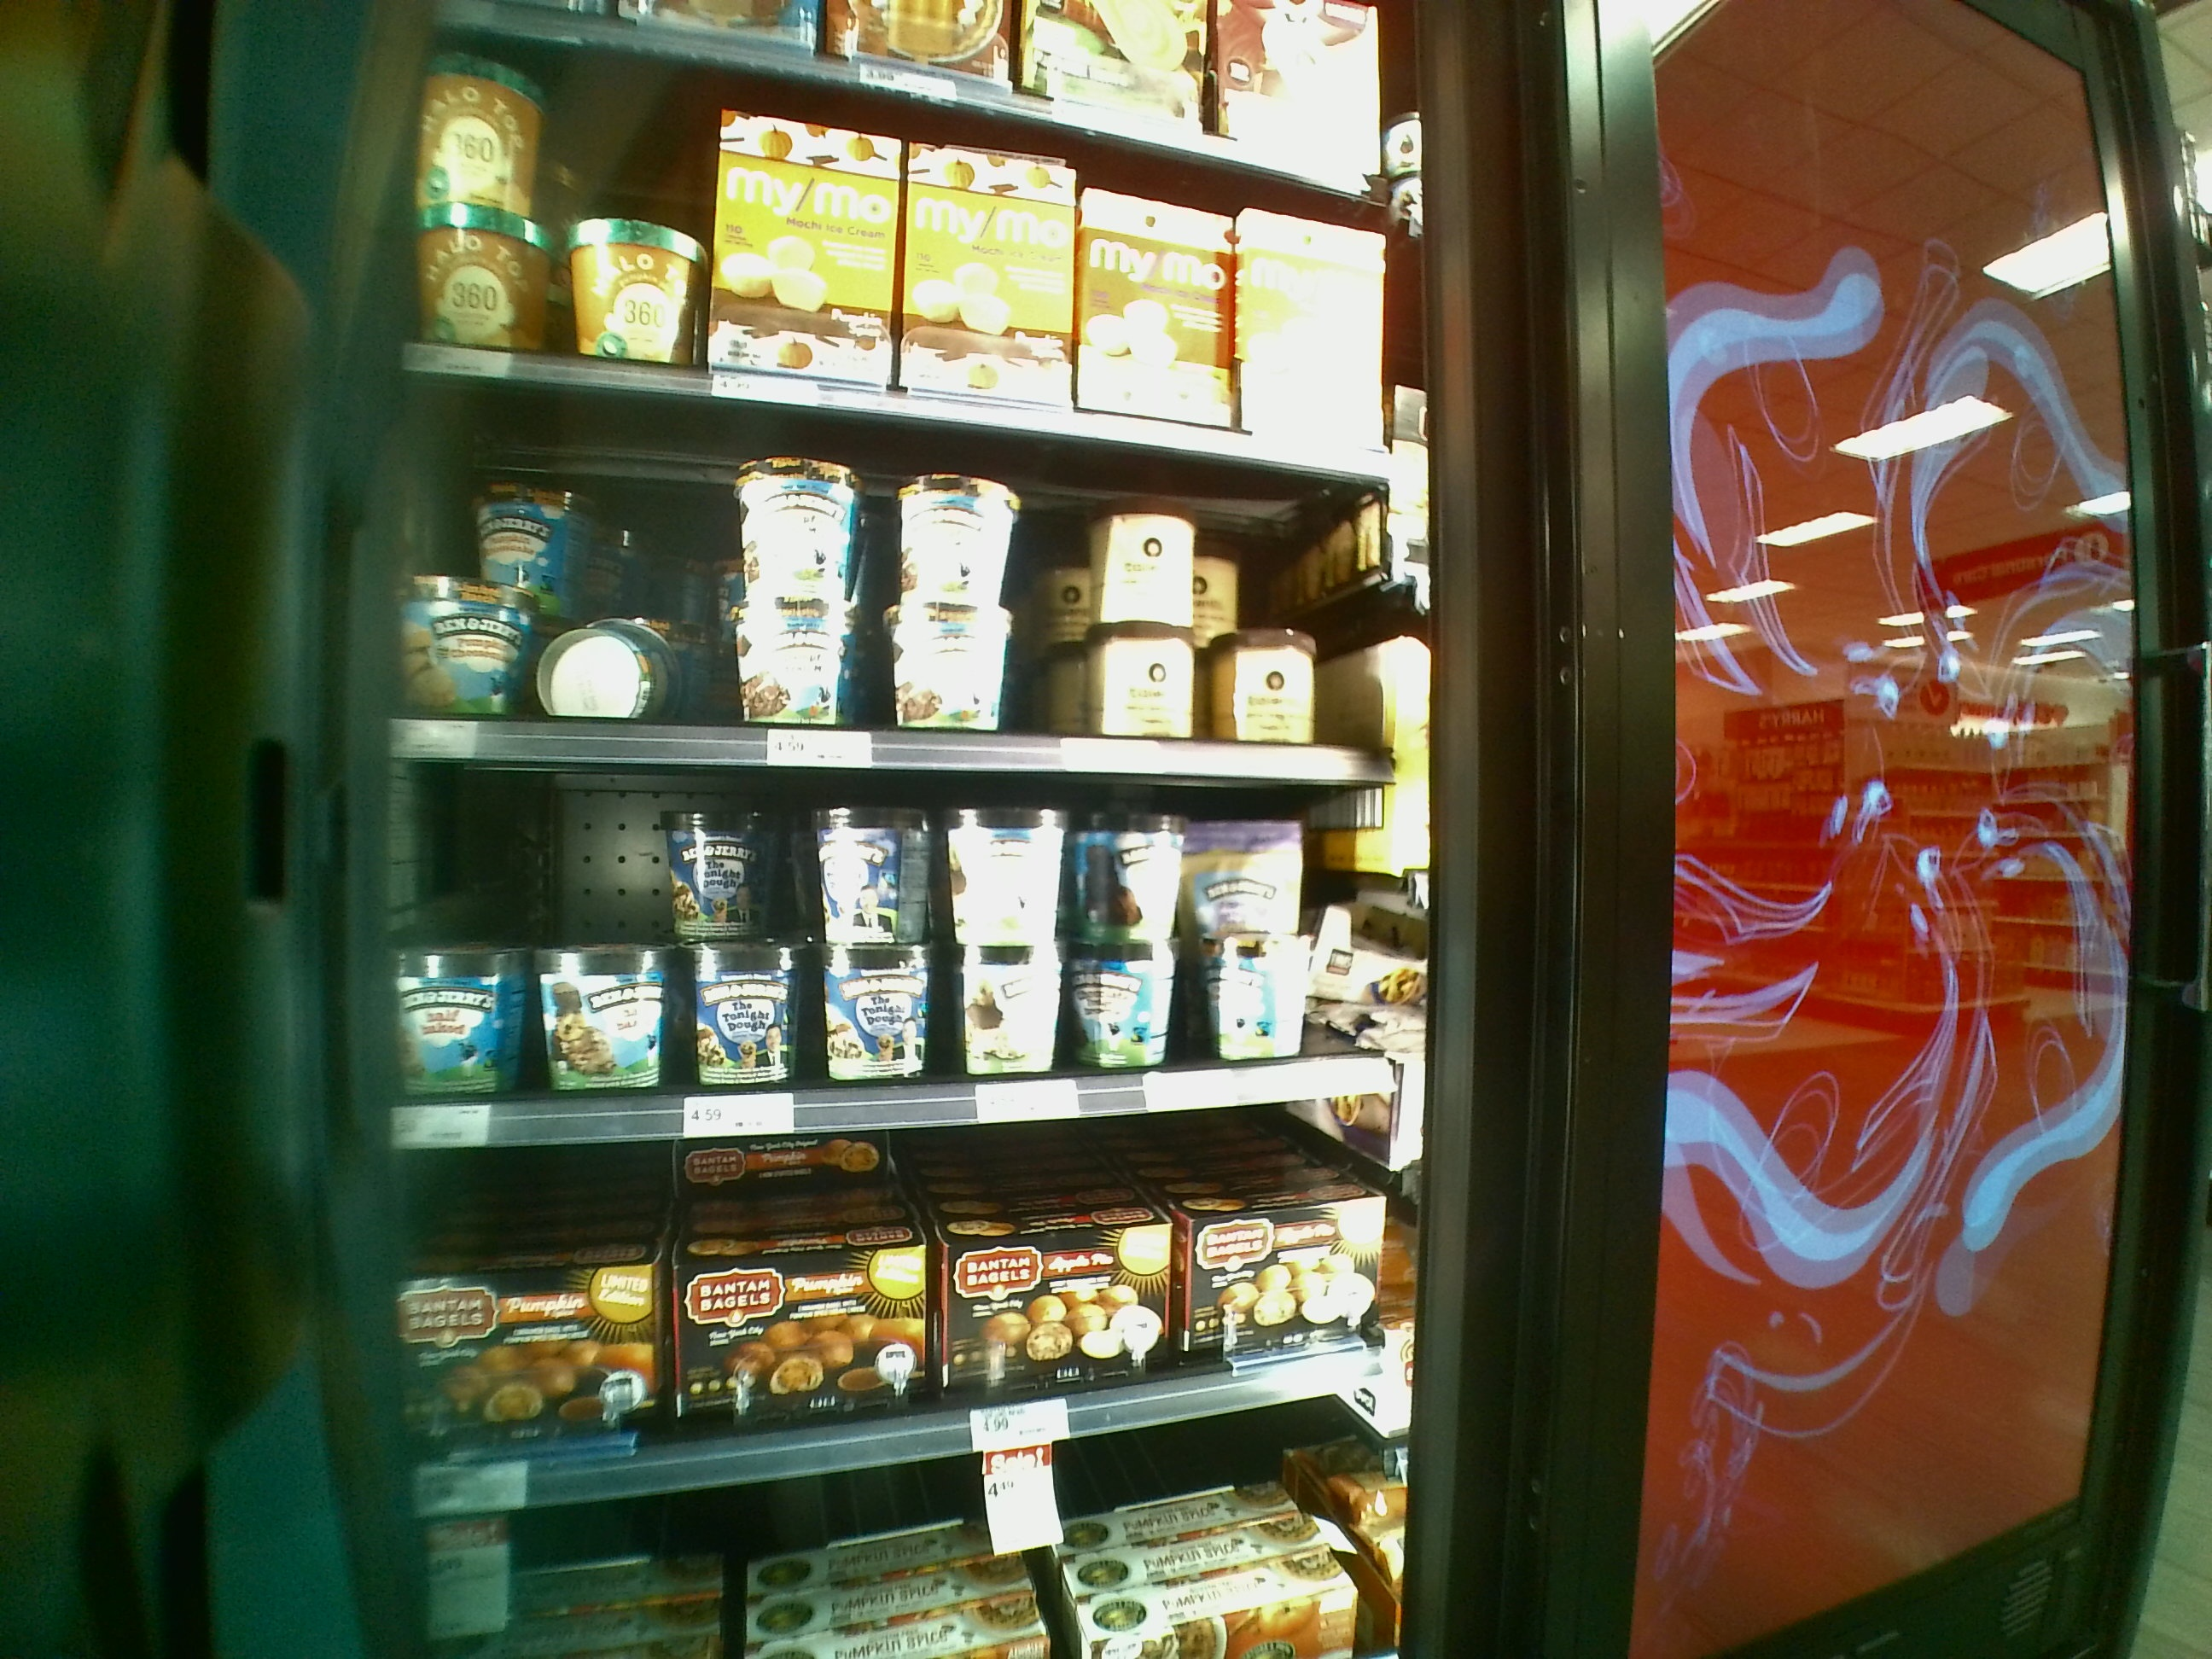shelf: (392, 352, 1416, 775), (376, 730, 1413, 1138), (381, 1129, 1399, 1497)
